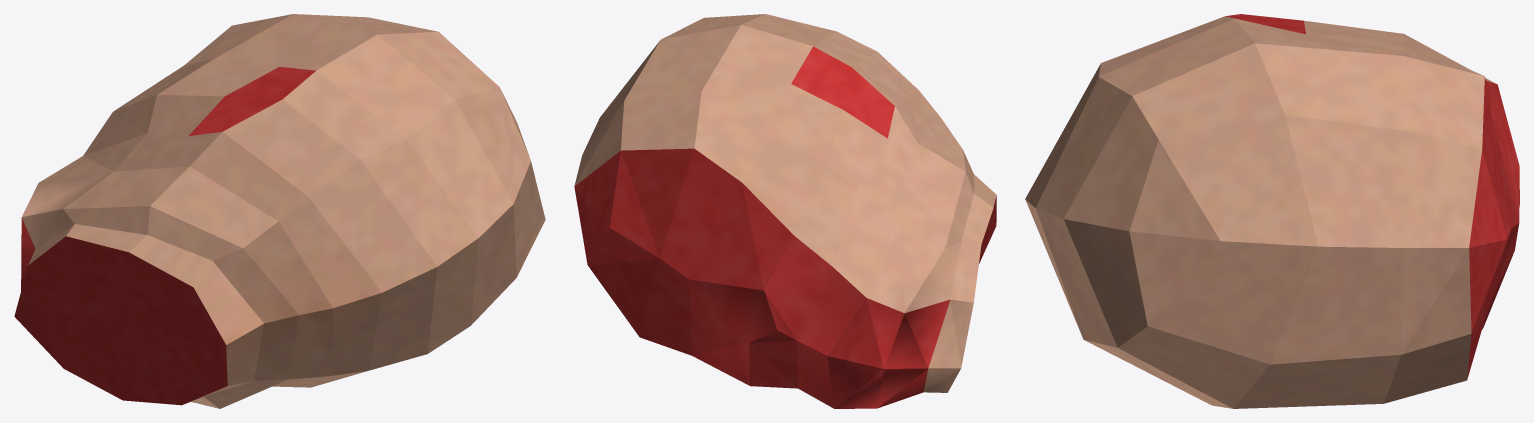
The model's file is g_head.fbx.
The picture shows the model from 3 angles, left to right: view 1: azimuth 30°, elevation 25°; view 2: azimuth 150°, elevation 25°; view 3: azimuth 270°, elevation 25°; orthographic projection. The views are drawn at different scales.
Parts seen in each view (by area): view 1: head; view 2: head; view 3: head.
Boxes of the visible parts, bbox=[...] form: head: bbox=[14, 14, 545, 408]; head: bbox=[574, 14, 996, 408]; head: bbox=[1025, 14, 1519, 408].
Bounding box in the file's own units: 0.3153 × 0.2676 × 0.226.
Materials: 1 (1 with a texture image).
